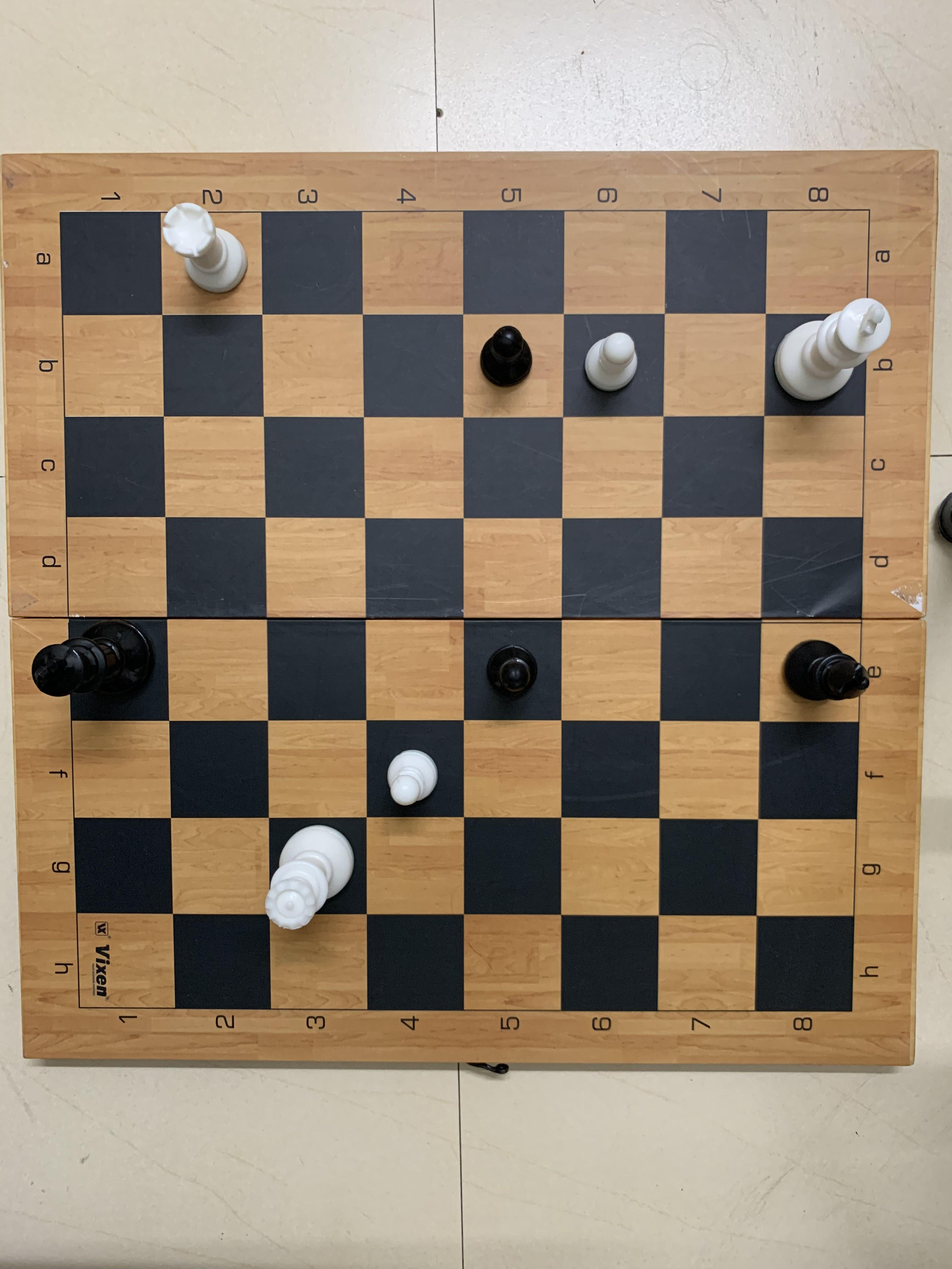black_bishop: (780, 628, 877, 713)
black_king: (26, 611, 167, 721)
black_pawn: (479, 638, 549, 708), (479, 320, 539, 394)
white_king: (767, 288, 897, 400)
white_pawn: (379, 741, 447, 809), (580, 322, 642, 389)
white_rook: (253, 826, 369, 940), (151, 197, 262, 302)
